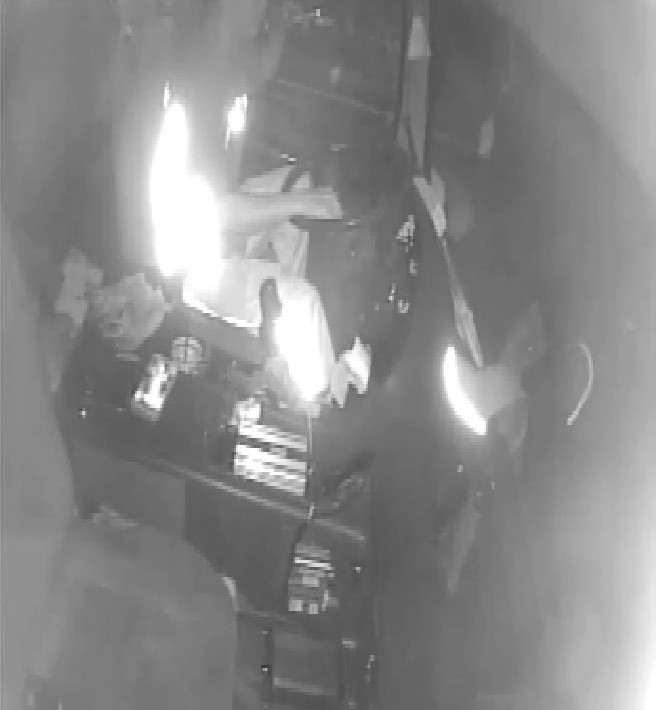cellphone: (129, 351, 180, 424)
